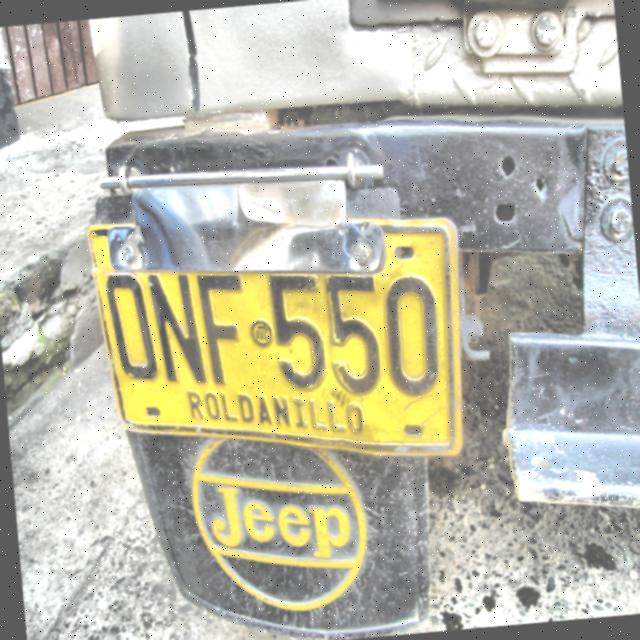0: (378, 272, 444, 396)
5: (266, 274, 330, 393), (323, 274, 382, 399)
F: (195, 274, 253, 389)
N: (143, 272, 209, 394)
O: (100, 271, 160, 384)
